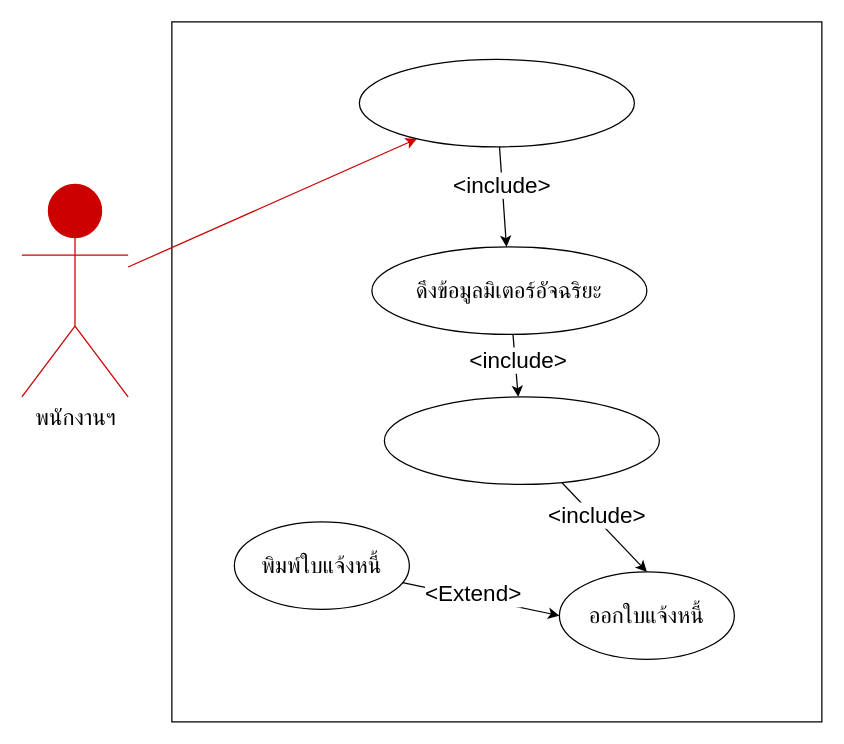
This 844x744 diagram has some shape labels left out. Each missing label, with the centre of its shape:
คำนวณค่าสาธารณูปโภค: the point at 521,440
สั่งประมวลผลใบแจ้งหนี้: the point at 496,102
